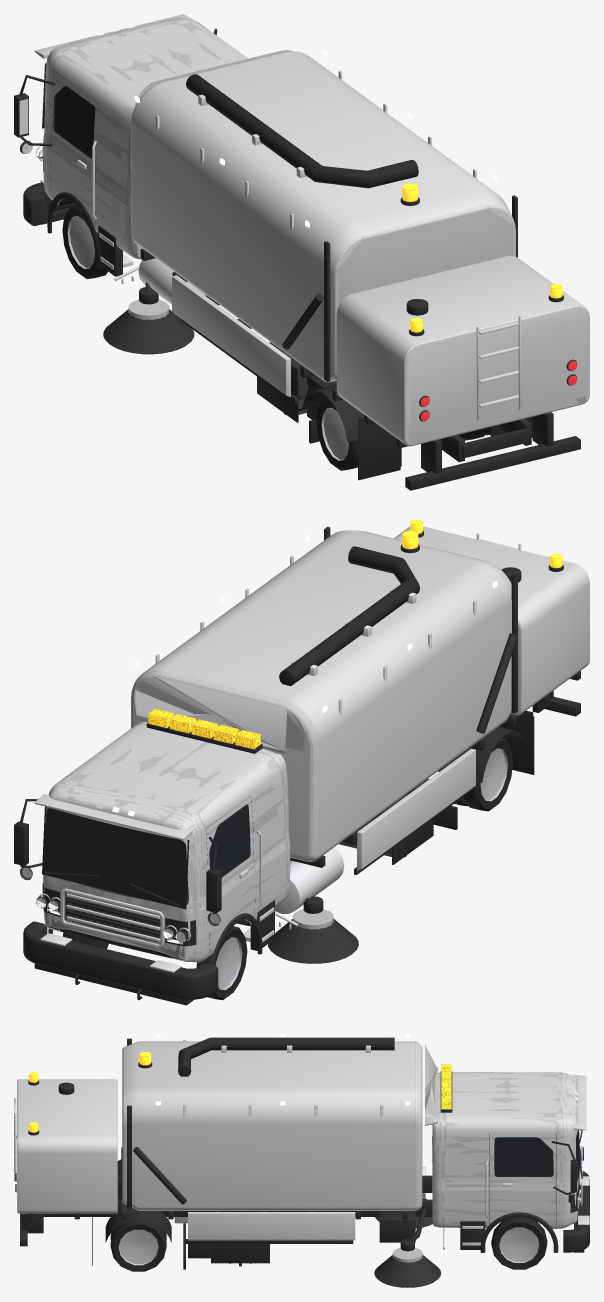
The model's file is road_sweeper.glb.
3 renders of one model, top to bottom at view 1: azimuth 30°, elevation 25°; view 2: azimuth 150°, elevation 25°; view 3: azimuth 270°, elevation 25°, orthographic. The views are drawn at different scales.
Visible parts, largest first — view 1: road_sweeper, road_sweeper_far, rig_brush_l; view 2: road_sweeper, road_sweeper_far, rig_brush_l; view 3: road_sweeper, road_sweeper_far, rig_brush_r.
Boxes of the visible parts, x1,y1,x2,y2 form: road_sweeper: (14,14,589,490); road_sweeper_far: (19,18,589,470); rig_brush_l: (103,299,194,354); road_sweeper: (14,519,589,1005); road_sweeper_far: (20,521,589,1000); rig_brush_l: (268,909,358,963); road_sweeper: (14,1034,589,1269); road_sweeper_far: (15,1037,589,1287); rig_brush_r: (374,1247,441,1287).
Bounding box in the file's own units: 3.14 × 3.21 × 8.78.
